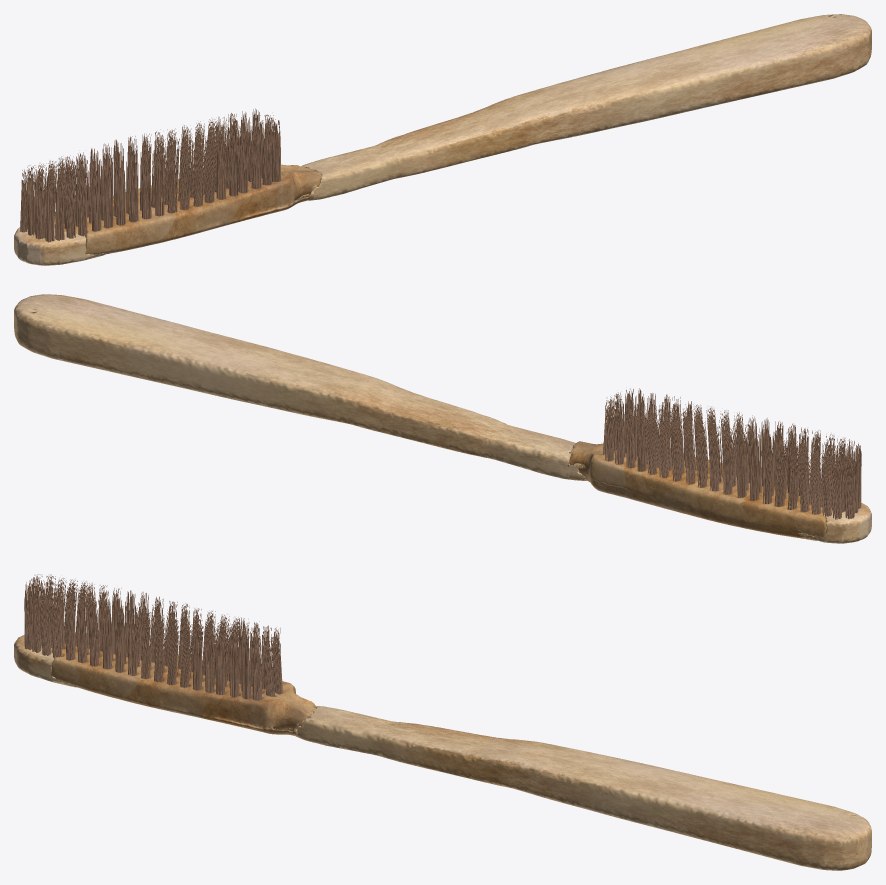
The model's file is cepillo.glb.
3 renders of one model, top to bottom at view 1: azimuth 30°, elevation 25°; view 2: azimuth 150°, elevation 25°; view 3: azimuth 330°, elevation 25°, orthographic.
Visible parts, largest first — view 1: reconstruccion, fotogrametria; view 2: reconstruccion, fotogrametria; view 3: reconstruccion, fotogrametria.
Boxes of the visible parts, left/top/right/bottom form: reconstruccion: left=14, top=14, right=871, bottom=265; fotogrametria: left=54, top=164, right=322, bottom=254; reconstruccion: left=14, top=294, right=871, bottom=543; fotogrametria: left=567, top=441, right=825, bottom=539; reconstruccion: left=14, top=574, right=871, bottom=870; fotogrametria: left=51, top=633, right=315, bottom=735.
Bounding box in the file's own units: 4.37 × 0.4642 × 0.3437.
Materials: 2 (2 with a texture image).
